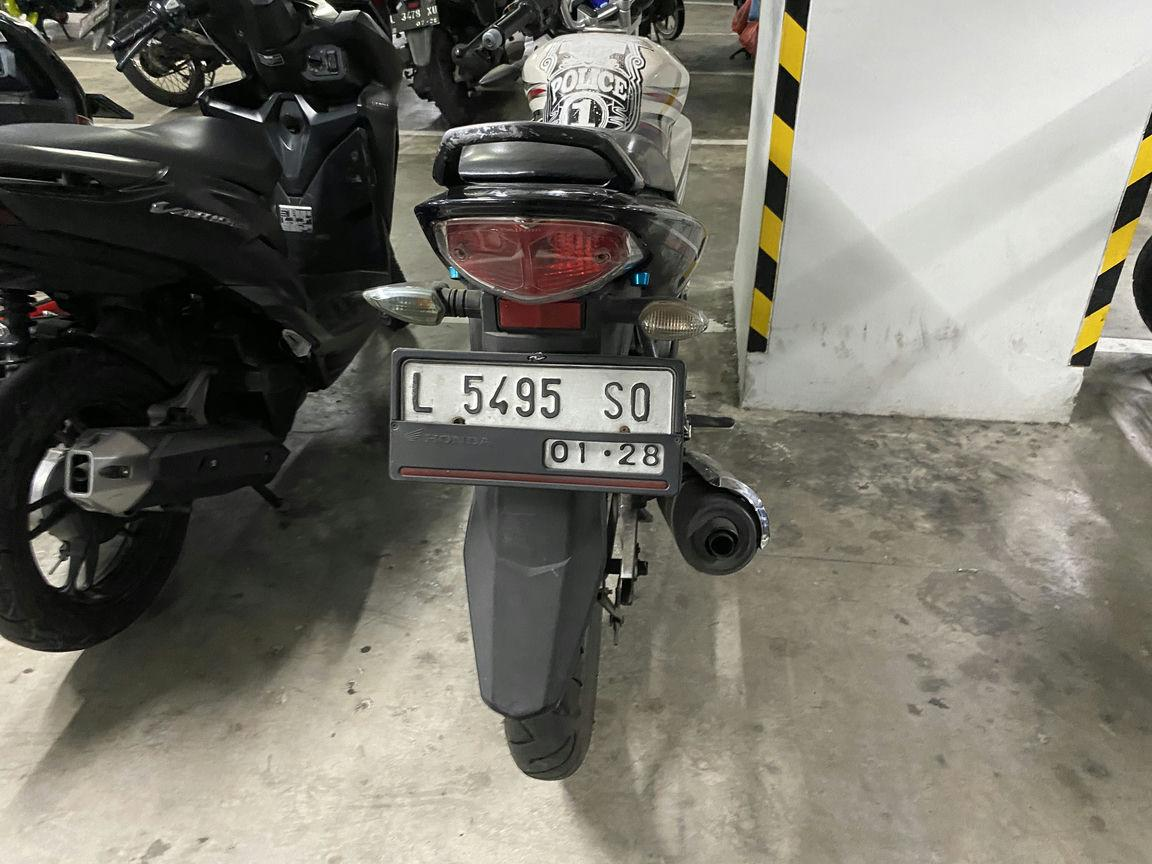plat: (389, 349, 684, 495)
